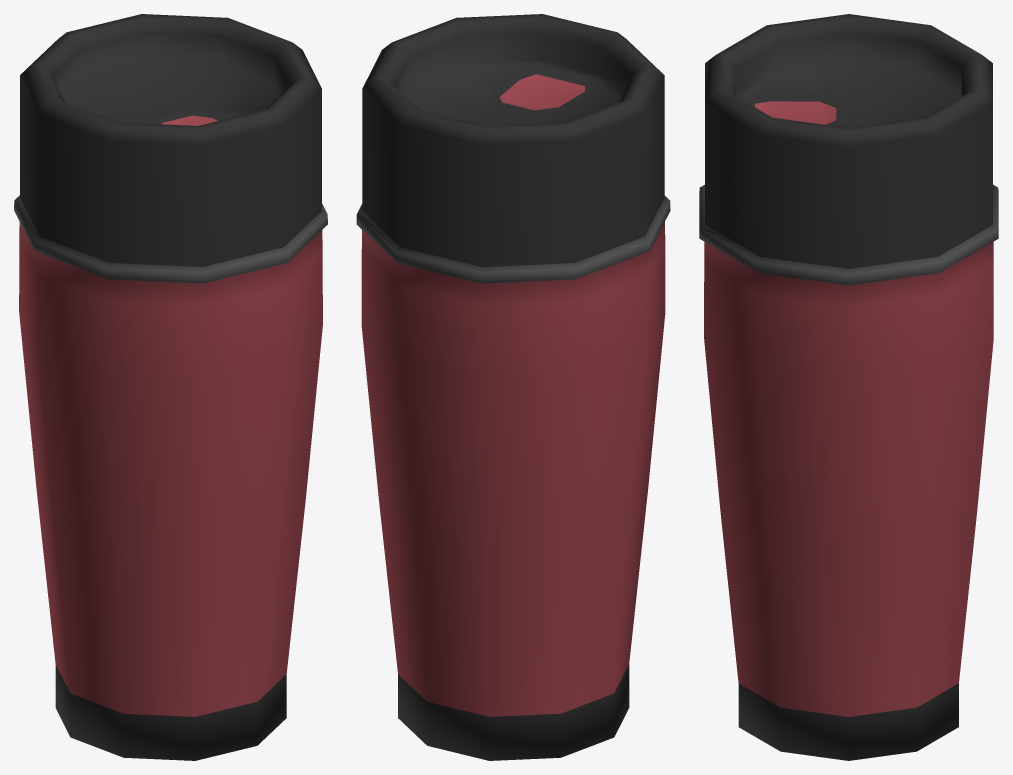
File: mesh_flask.fbx
3 views of the same model, side by side, from view 1: azimuth 30°, elevation 25°; view 2: azimuth 150°, elevation 25°; view 3: azimuth 270°, elevation 25° (orthographic).
Visible parts, largest first — view 1: pCylinder19; view 2: pCylinder19; view 3: pCylinder19.
Part boxes in pixels (x1,y1,x2,y2): pCylinder19: (14, 14, 327, 760); pCylinder19: (356, 14, 670, 760); pCylinder19: (699, 14, 998, 760).
Bounding box in the file's own units: 4.28 × 9.59 × 4.07.
